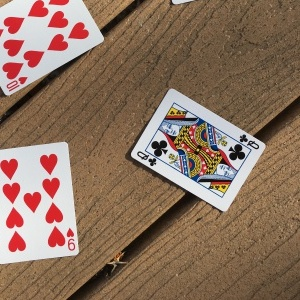card: (129, 88, 267, 212)
